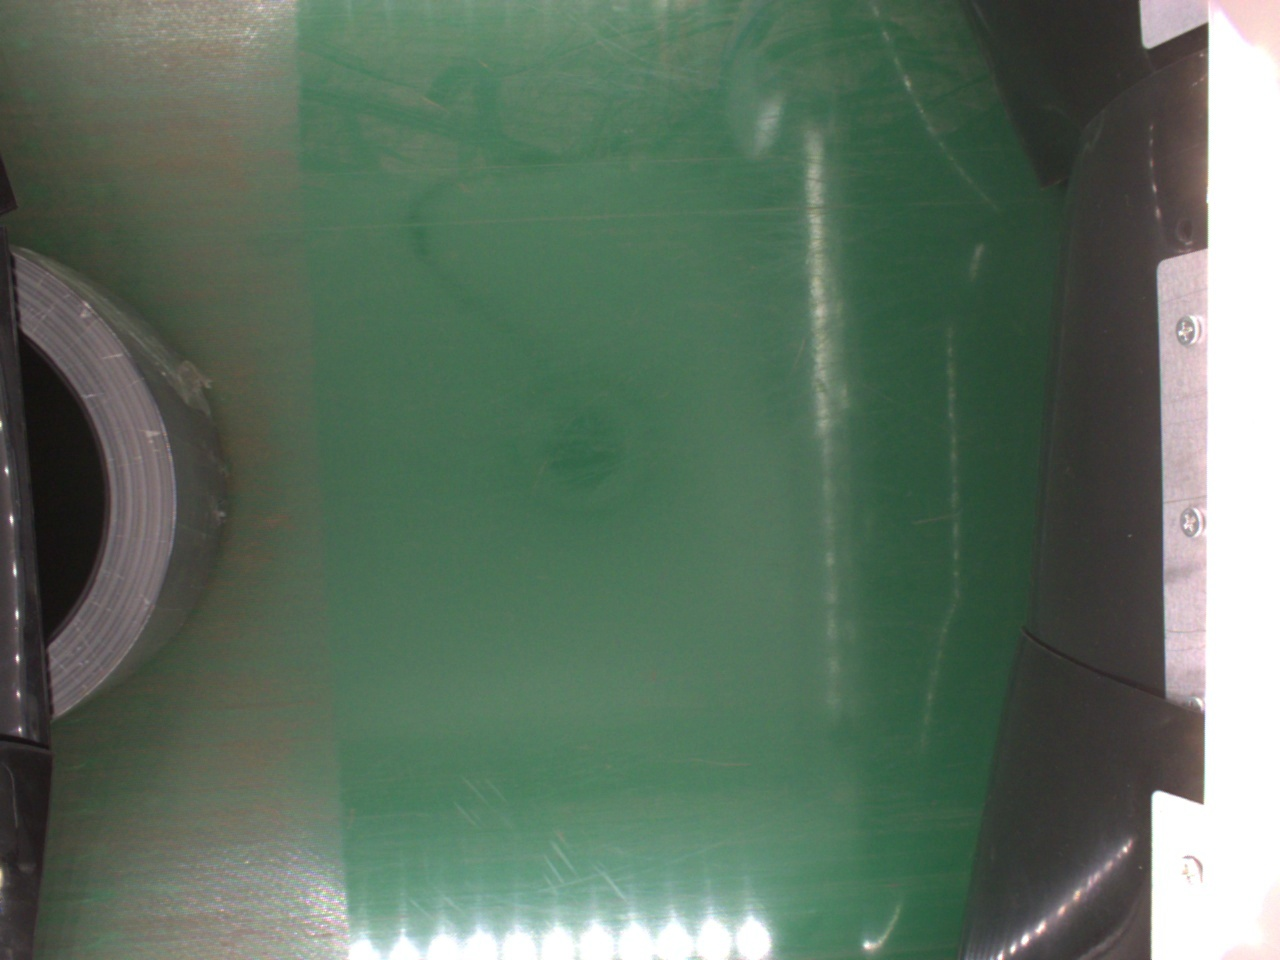black: (19, 246, 231, 724)
